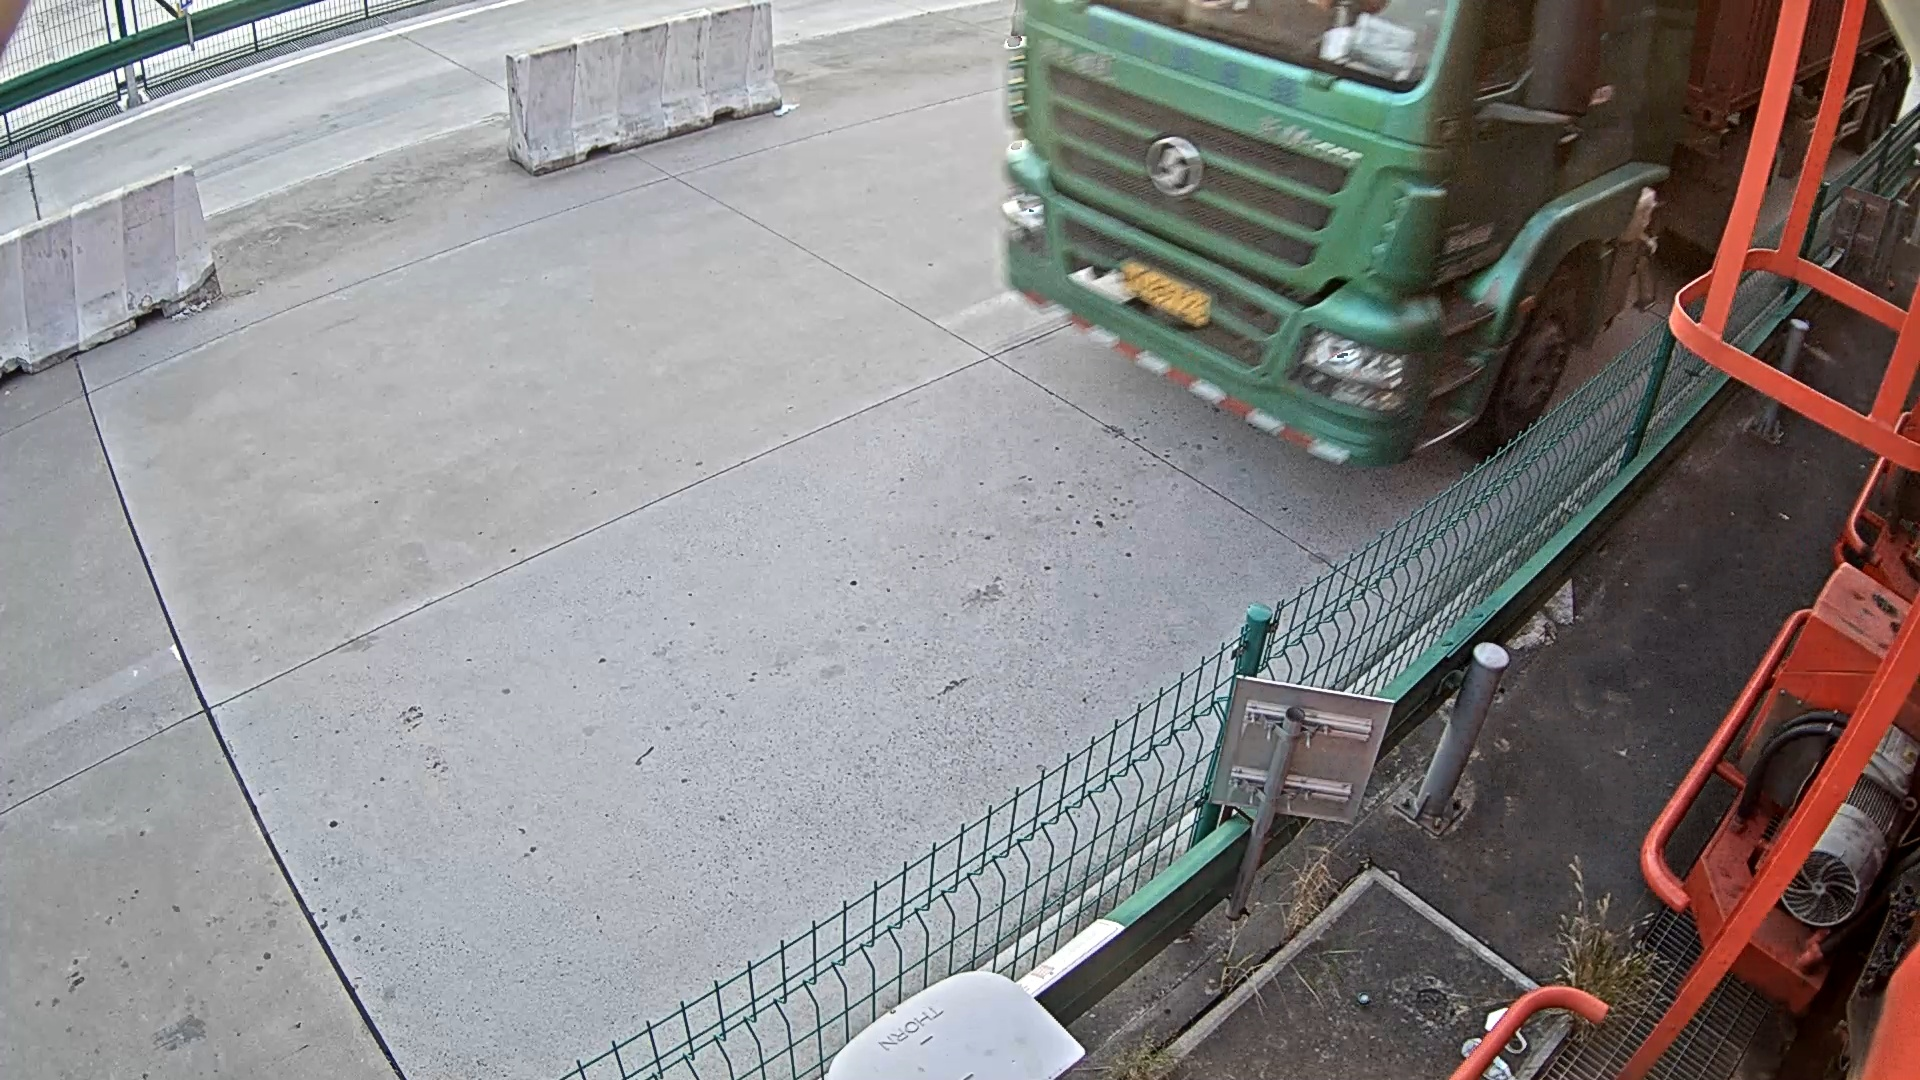head: (1004, 13, 1535, 500)
plate: (1112, 251, 1229, 344)
